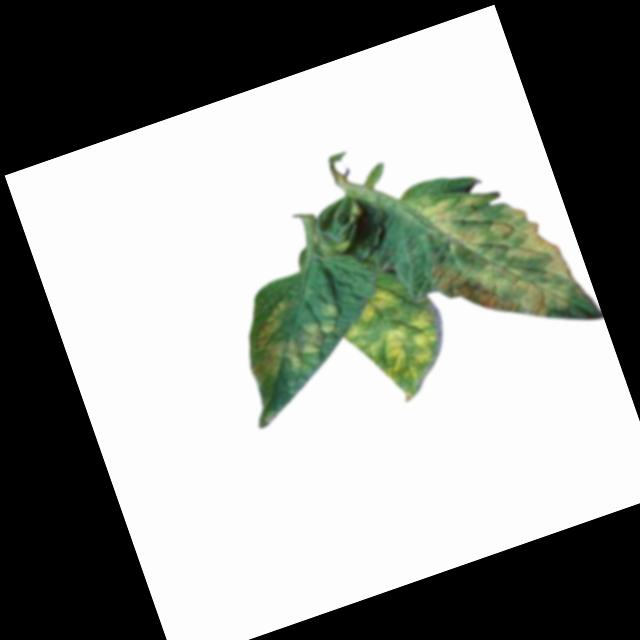Leaf_Mold: (404, 154, 594, 349), (334, 271, 460, 409), (232, 284, 350, 387)
